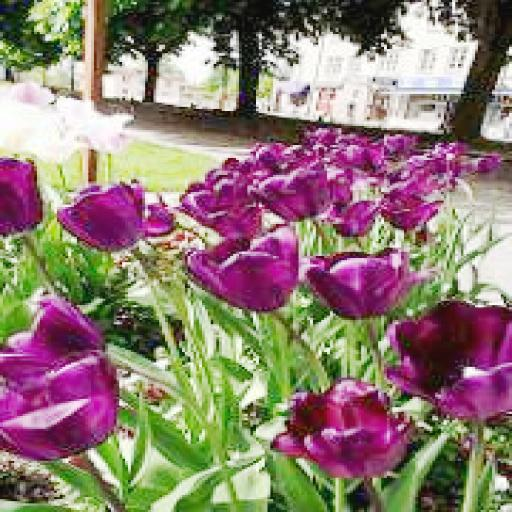tulip: (378, 296, 512, 424), (273, 382, 404, 476), (304, 245, 427, 322), (188, 226, 304, 307), (57, 181, 148, 250)
